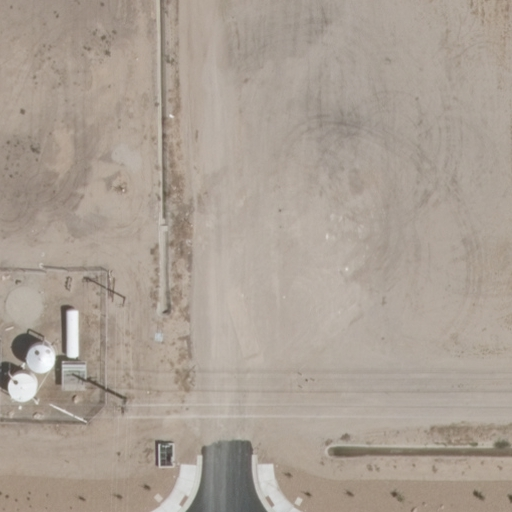DT: (107, 389, 133, 416), (110, 291, 134, 309)
